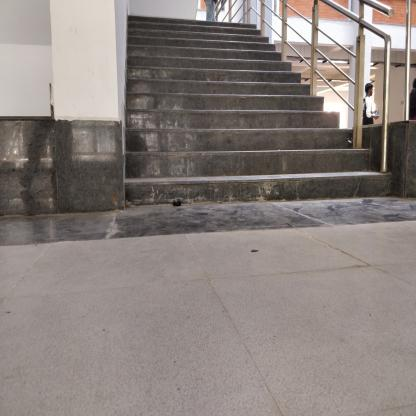stairs: (131, 14, 258, 216)
